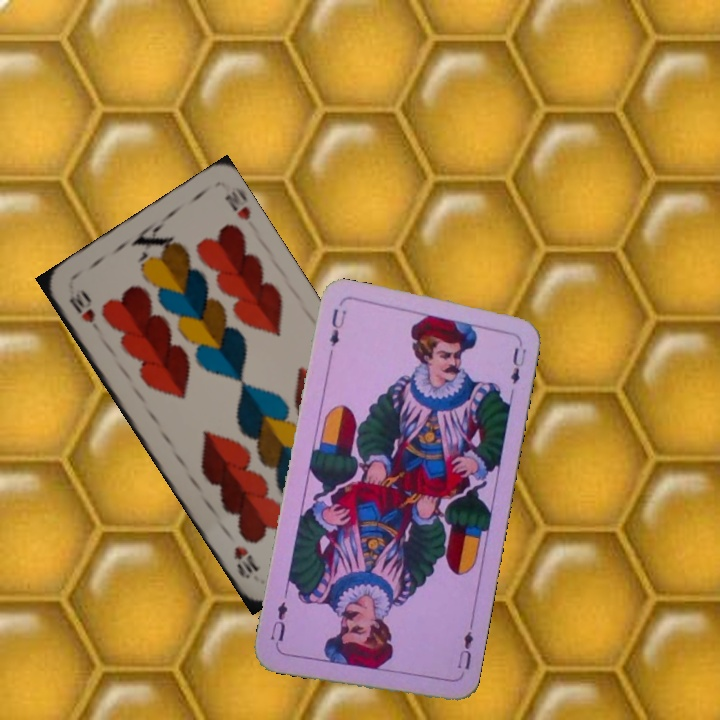EU: (453, 622, 477, 672), (325, 304, 349, 349)
H10: (65, 287, 98, 326)
